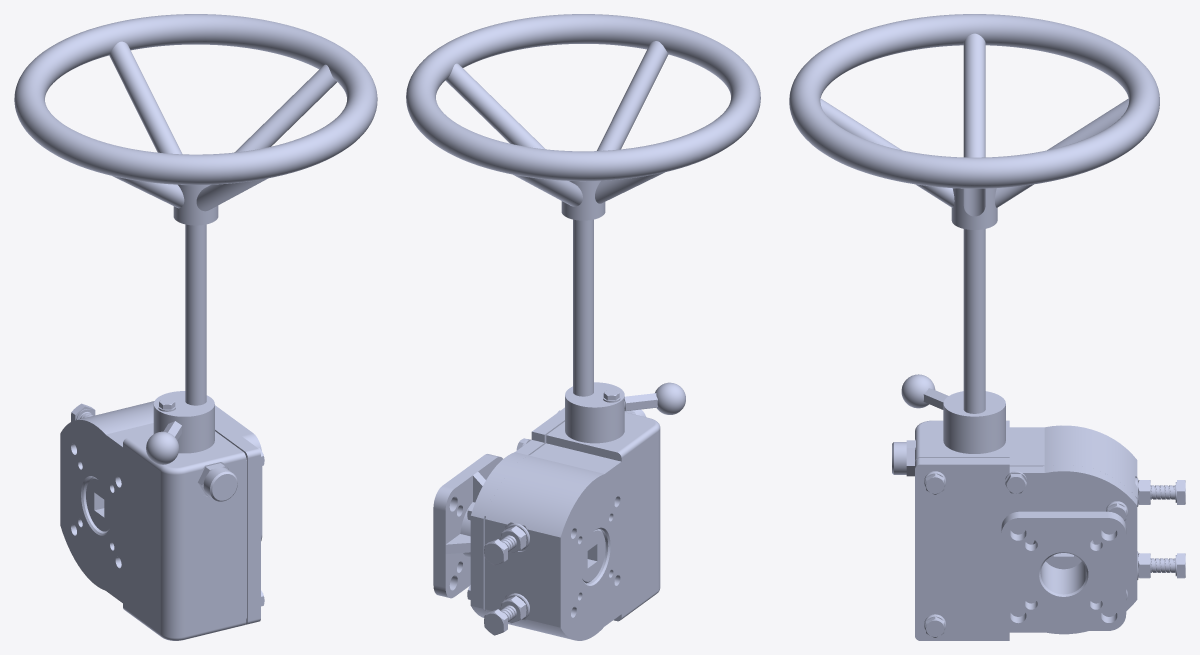
File: mor.glb
3 renders of one model, left to right at view 1: azimuth 30°, elevation 25°; view 2: azimuth 150°, elevation 25°; view 3: azimuth 270°, elevation 25°, orthographic. The views are drawn at different scales.
Parts seen in each view (by area): view 1: NAUO16, NAUO1, NAUO5, NAUO2, NAUO29, NAUO14, NAUO15, NAUO32; view 2: NAUO16, NAUO1, NAUO2, NAUO5, NAUO29, NAUO15, NAUO32, NAUO20, NAUO19; view 3: NAUO2, NAUO16, NAUO1, NAUO5, NAUO29, NAUO15, NAUO14, NAUO19, NAUO20.
Boxes of the visible parts, x1,y1,x2,y2 form: NAUO16: [14, 14, 377, 225]; NAUO1: [60, 401, 246, 640]; NAUO5: [185, 224, 206, 405]; NAUO2: [215, 405, 262, 624]; NAUO29: [153, 391, 214, 453]; NAUO14: [198, 463, 237, 501]; NAUO15: [146, 421, 181, 464]; NAUO32: [86, 477, 111, 532]; NAUO16: [406, 14, 760, 220]; NAUO1: [485, 412, 660, 640]; NAUO2: [433, 407, 564, 617]; NAUO5: [573, 219, 593, 396]; NAUO29: [565, 382, 624, 443]; NAUO15: [624, 382, 685, 414]; NAUO32: [580, 529, 605, 583]; NAUO20: [484, 535, 516, 565]; NAUO19: [484, 605, 516, 635]; NAUO2: [915, 458, 1137, 640]; NAUO16: [789, 14, 1159, 229]; NAUO1: [915, 420, 1137, 498]; NAUO5: [963, 229, 985, 413]; NAUO29: [943, 391, 1005, 453]; NAUO15: [901, 374, 948, 409]; NAUO14: [892, 440, 915, 476]; NAUO19: [1150, 553, 1185, 578]; NAUO20: [1150, 480, 1185, 504].
Bounding box in the file's own units: 0.202 × 0.322 × 0.216.
